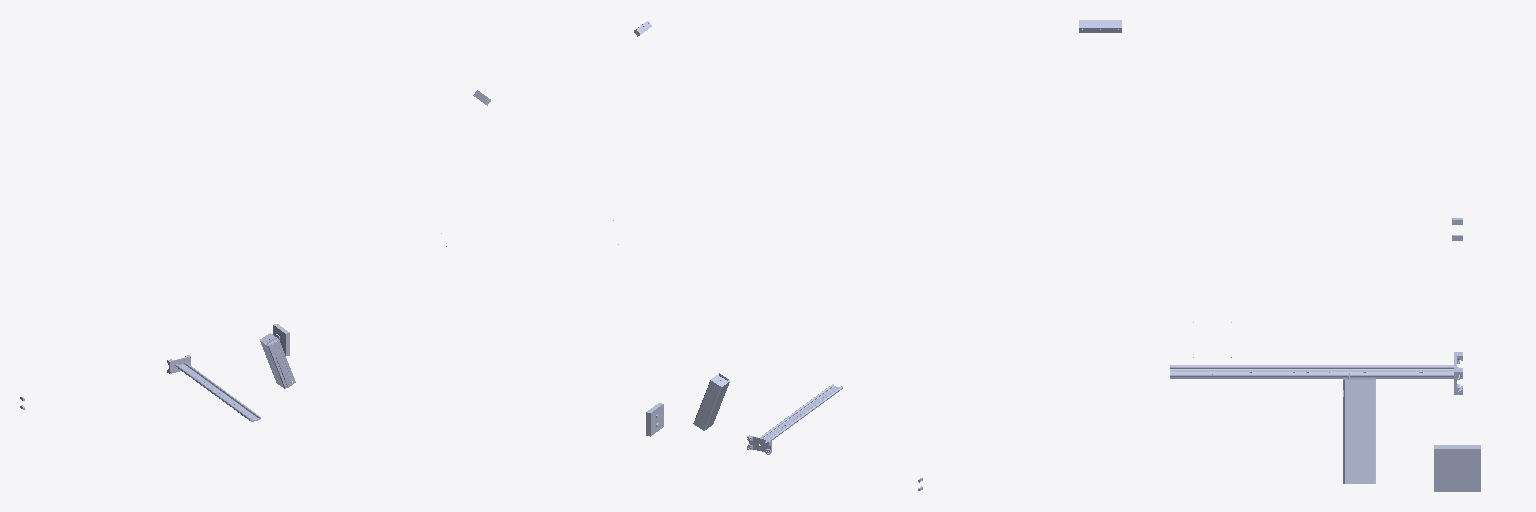
--- Facts derived from the render (not from the file) ---
Views: 3 orthographic renders of the robot side by side, from view 1: azimuth 30°, elevation 25°; view 2: azimuth 150°, elevation 25°; view 3: azimuth 270°, elevation 25°.
Model robo_description with 21 links and 20 joints (2 revolute, 2 prismatic, 16 fixed), rooted at base_link, posed all joints at 0 but 1 set to mid-range because 0 is outside their limits (joint5 = 0.4665).
Visible links, largest first — view 1: link2, link5; view 2: link2, link5; view 3: link2, link5, base_link, camera_link.
Link boxes in pixels (<box>): link2: <box>167,355,260,421</box>; link5: <box>260,333,295,388</box>; link2: <box>747,384,842,454</box>; link5: <box>693,373,729,430</box>; link2: <box>1170,352,1462,394</box>; link5: <box>1343,373,1375,483</box>; base_link: <box>1434,218,1480,491</box>; camera_link: <box>1079,20,1121,32</box>.
Size in the robot's own frame: 1.7 by 0.8487 by 1.36 metres.
Meshes: 6 distinct files referenced, 4 mesh visuals loaded (4 binary STL); not drawn: 2 (reference not matched to a file when rendering).

The robot description file, URDF, robot "robo_description":
<?xml version="1.0" encoding="utf-8"?>
<!-- This URDF was automatically created by SolidWorks to URDF Exporter! Originally created by Stephen Brawner ([email redacted]) 
     Commit Version: 1.6.0-4-g7f85cfe  Build Version: 1.6.7995.38578
     For more information, please see http://wiki.ros.org/sw_urdf_exporter -->
<robot
  name="robo_description">
  <link
    name="base_link">
    <inertial>
      <origin
        xyz="-5.13826234849775E-17 -1.63904738952765E-17 0.339473684210526"
        rpy="0 0 0" />
      <mass
        value="19" />
      <inertia
        ixx="2.34956140350877"
        ixy="1.11311423041845E-17"
        ixz="3.69215798456927E-16"
        iyy="2.34956140350877"
        iyz="-7.44985984223617E-17"
        izz="0.151666666666667" />
    </inertial>
    <visual>
      <origin
        xyz="0 0 0"
        rpy="0 0 0" />
      <geometry>
        <mesh
          filename="package://robo_description/meshes/base_link.STL" />
      </geometry>
      <material
        name="">
        <color
          rgba="0.792156862745098 0.819607843137255 0.933333333333333 1" />
      </material>
    </visual>
    <collision>
      <origin
        xyz="0 0 0"
        rpy="0 0 0" />
      <geometry>
        <mesh
          filename="package://robo_description/meshes/base_link.STL" />
      </geometry>
    </collision>
  </link>
  <link
    name="link2">
    <inertial>
      <origin
        xyz="-0.001261 -0.2858 0.14572"
        rpy="0 0 0" />
      <mass
        value="3.13280329013611" />
      <inertia
        ixx="0.0169430024052603"
        ixy="-0.00280446630124331"
        ixz="0.0223183329111622"
        iyy="0.162057682822749"
        iyz="0.000505061238040558"
        izz="0.161640952999751" />
    </inertial>
    <visual>
      <origin
        xyz="0 0 -1"
        rpy="0 0 0" />
      <geometry>
        <mesh
          filename="package://robo_description/meshes/link2.STL" />
      </geometry>
      <material
        name="">
        <color
          rgba="0.792156862745098 0.819607843137255 0.933333333333333 1" />
      </material>
    </visual>
    <collision>
      <origin
        xyz="0 0 0"
        rpy="0 0 0" />
      <geometry>
        <mesh
          filename="package://robo_description/meshes/link2.STL" />
      </geometry>
    </collision>
  </link>
  <joint
    name="joint2"
    type="prismatic">
    <origin
      xyz="0.0 0 1"
      rpy="0 0 0" />
    <parent
      link="base_link" />
    <child
      link="link2" />
    <axis
      xyz="0 0 1" />
    <limit
      lower="0"
      upper="1"
      effort="0"
      velocity="0" />
  </joint>
  <link
    name="link4">
    <inertial>
      <origin
        xyz="-0.000438554587764983 0.0620490502692163 -0.172885898172371"
        rpy="0 0 0" />
      <mass
        value="0.162146723185788" />
      <inertia
        ixx="0.00336616371871891"
        ixy="1.46811284877534E-06"
        ixz="-3.57096843523024E-06"
        iyy="0.00312866852492012"
        iyz="0.00048231220150353"
        izz="0.000338308018448651" />
    </inertial>
    <visual>
      <origin
        xyz="-0.4665 0 -0.790"
        rpy="0 0 0" />
      <geometry>
        <mesh
          filename="package://robo_description/meshes/link4.STL" />
      </geometry>
      <material
        name="">
        <color
          rgba="0.792156862745098 0.819607843137255 0.933333333333333 1" />
      </material>
    </visual>
    <collision>
      <origin
        xyz="0 0 0"
        rpy="0 0 0" />
      <geometry>
        <mesh
          filename="package://robo_description/meshes/link4.STL" />
      </geometry>
    </collision>
  </link>
  <joint
    name="joint4"
    type="revolute">
    <origin
      xyz="0.46904 0 -0.21"
      rpy="0 0 0" />
    <parent
      link="link2" />
    <child
      link="link4" />
    <axis
      xyz="0 0 1" />
    <limit
      lower="-2.9671"
      upper="2.9671"
      effort="0"
      velocity="0" />
  </joint>
  <link
    name="link3">
    <inertial>
      <origin
        xyz="-0.0832189655707039 -0.0894795892974461 -0.00179630042130147"
        rpy="0 0 0" />
      <mass
        value="1.71811977068641" />
      <inertia
        ixx="0.00948440583507882"
        ixy="-0.00159429497921182"
        ixz="0.00308193362516688"
        iyy="0.035537875179704"
        iyz="0.000648421421055908"
        izz="0.0305779645247813" />
    </inertial>
    <visual>
      <origin
        xyz="-0.468545 -0.078 -0.43528"
        rpy="0 0 0" />
      <geometry>
        <mesh
          filename="package://robo_description/meshes/link3.STL" />
      </geometry>
      <material
        name="">
        <color
          rgba="0.792156862745098 0.819607843137255 0.933333333333333 1" />
      </material>
    </visual>
    <collision>
      <origin
        xyz="0 0 0"
        rpy="0 0 0" />
      <geometry>
        <mesh
          filename="package://robo_description/meshes/link3.STL" />
      </geometry>
    </collision>
  </link>
  <joint
    name="joint3"
    type="revolute">
    <origin
      xyz="0.0 0.077824 -0.35472"
      rpy="0 0 0" />
    <parent
      link="link4" />
    <child
      link="link3" />
    <axis
      xyz="0 1 0" />
    <limit
      lower="-1.5708"
      upper="1.5708"
      effort="0"
      velocity="0" />
  </joint>
  <link
    name="yanthra_link">
    <inertial>
      <origin
        xyz="-0.0832189655707036 -0.0114795892974462 -0.00179630042130124"
        rpy="0 0 0" />
      <mass
        value="1.71811977068641" />
      <inertia
        ixx="0.00948440583507882"
        ixy="-0.00159429497921182"
        ixz="0.0030819336251669"
        iyy="0.035537875179704"
        iyz="0.000648421421055907"
        izz="0.0305779645247813" />
    </inertial>
    <visual>
      <origin
        xyz="0 0 0"
        rpy="0 0 0" />
      <geometry>
        <box size="0.001 0.001 0.001"/>
      </geometry>
      <material
        name="">
        <color
          rgba="0.792156862745098 0.819607843137255 0.933333333333333 1" />
      </material>
    </visual>
    <collision>
      <origin
        xyz="0 0 0"
        rpy="0 0 0" />
      <geometry>
        <box size="0.001 0.001 0.001"/>
      </geometry>
    </collision>
  </link>
  <joint
    name="yanthra_joint"
    type="fixed">
    <origin
      xyz="0 -0.078 0"
      rpy="0 0 0" />
    <parent
      link="link3" />
    <child
      link="yanthra_link" />
    <axis
      xyz="0 0 0" />
  </joint>
  <link
    name="link5_origin">
    <inertial>
      <origin
        xyz="-0.00874999999999998 0.0375 -0.00507843424240889"
        rpy="0 0 0" />
      <mass
        value="0.0438088883035136" />
      <inertia
        ixx="3.24913884800222E-05"
        ixy="1.33063310958086E-21"
        ixz="-8.470329472543E-22"
        iyy="3.99574478810853E-06"
        iyz="-3.38875204913906E-21"
        izz="3.07317223657389E-05" />
    </inertial>
    <visual>
      <origin
        xyz="0 0 0"
        rpy="0 0 0" />
      <geometry>
        <box size="0.001 0.001 0.001"/>
      </geometry>
      <material
        name="">
        <color
          rgba="0.792156862745098 0.819607843137255 0.933333333333333 1" />
      </material>
    </visual>
    <collision>
      <origin
        xyz="0 0 0"
        rpy="0 0 0" />
      <geometry>
        <box size="0.001 0.001 0.001"/>
      </geometry>
    </collision>
  </link>
  <joint
    name="link5_origin_joint"
    type="fixed">
    <origin
      xyz="0 0 0.0"
      rpy="0 0 0" />
    <parent	
      link="yanthra_link" />
    <child
      link="link5_origin" />
    <axis
      xyz="0 0 0" />
  </joint>
  <link
    name="link5">
    <inertial>
      <origin
        xyz="0.108132413871145 2.08242781028485E-06 0.00569147154470495"
        rpy="0 0 0" />
      <mass
        value="0.277404400359573" />
      <inertia
        ixx="0.00021628976171093"
        ixy="1.27900715148446E-06"
        ixz="-0.000135093187106687"
        iyy="0.00359200319167061"
        iyz="-8.36237914028336E-08"
        izz="0.00358633509004247" />
    </inertial>
    <visual>
      <origin
        xyz="-0.715545 0 -0.43528"
        rpy="0 0 0" />
      <geometry>
        <mesh
          filename="package://robo_description/meshes/link5.STL" />
      </geometry>
      <material
        name="">
        <color
          rgba="0.792156862745098 0.819607843137255 0.933333333333333 1" />
      </material>
    </visual>
    <collision>
      <origin
        xyz="0 0 0"
        rpy="0 0 0" />
      <geometry>
        <mesh
          filename="package://robo_description/meshes/link5.STL" />
      </geometry>
    </collision>
  </link>
  <joint
    name="joint5"
    type="prismatic">
    <origin
      xyz="0.0 0 0"
      rpy="0 0 0" />
    <parent
      link="link5_origin" />
    <child
      link="link5" />
    <axis
      xyz="1 0 0" />
    <limit
      lower="0.247"
      upper="0.686"
      effort="0"
      velocity="0" />
  </joint>
  <link
    name="ee_link">
    <inertial>
      <origin
        xyz="-0.00874999999999998 0.0375 -0.00507843424240889"
        rpy="0 0 0" />
      <mass
        value="0.0438088883035136" />
      <inertia
        ixx="3.24913884800222E-05"
        ixy="1.33063310958086E-21"
        ixz="-8.470329472543E-22"
        iyy="3.99574478810853E-06"
        iyz="-3.38875204913906E-21"
        izz="3.07317223657389E-05" />
    </inertial>
    <visual>
      <origin
        xyz="0 0 0"
        rpy="0 0 0" />
      <geometry>
        <box size="0.001 0.001 0.001"/>
      </geometry>
      <material
        name="">
        <color
          rgba="0.792156862745098 0.819607843137255 0.933333333333333 1" />
      </material>
    </visual>
    <collision>
      <origin
        xyz="0 0 0"
        rpy="0 0 0" />
      <geometry>
        <box size="0.001 0.001 0.001"/>
      </geometry>
    </collision>
  </link>
  <joint
    name="ee_joint"
    type="fixed">
    <origin
      xyz="-0.085 0 0"
      rpy="0 0 0" />
    <parent	
      link="link5" />
    <child
      link="ee_link" />
    <axis
      xyz="0 0 0" />
  </joint>
  <link
    name="aruco_marker_link">
    <inertial>
      <origin
        xyz="-0.00874999999999998 0.0375 -0.00507843424240889"
        rpy="0 0 0" />
      <mass
        value="0.0438088883035136" />
      <inertia
        ixx="3.24913884800222E-05"
        ixy="1.33063310958086E-21"
        ixz="-8.470329472543E-22"
        iyy="3.99574478810853E-06"
        iyz="-3.38875204913906E-21"
        izz="3.07317223657389E-05" />
    </inertial>
    <visual>
      <origin
        xyz="0 0 0"
        rpy="0 0 0" />
      <geometry>
        <box size="0.001 0.001 0.001"/>
      </geometry>
      <material
        name="">
        <color
          rgba="0.792156862745098 0.819607843137255 0.933333333333333 1" />
      </material>
    </visual>
    <collision>
      <origin
        xyz="0 0 0"
        rpy="0 0 0" />
      <geometry>
        <box size="0.001 0.001 0.001"/>
      </geometry>
    </collision>
  </link>
  <joint
    name="aruco_joint"
    type="fixed">
    <origin
      xyz="0.0 0 0.08"
      rpy="0 0 0" />
    <parent	
      link="ee_link" />
    <child
      link="aruco_marker_link" />
    <axis
      xyz="0 0 0" />
  </joint>
  <link
    name="aruco_link_1">
    <inertial>
      <origin
        xyz="-0.00874999999999998 0.0375 -0.00507843424240889"
        rpy="0 0 0" />
      <mass
        value="0.0438088883035136" />
      <inertia
        ixx="3.24913884800222E-05"
        ixy="1.33063310958086E-21"
        ixz="-8.470329472543E-22"
        iyy="3.99574478810853E-06"
        iyz="-3.38875204913906E-21"
        izz="3.07317223657389E-05" />
    </inertial>
    <visual>
      <origin
        xyz="0 0 0"
        rpy="0 0 0" />
      <geometry>
        <box size="0.001 0.001 0.001"/>
      </geometry>
      <material
        name="">
        <color
          rgba="0.792156862745098 0.819607843137255 0.933333333333333 1" />
      </material>
    </visual>
    <collision>
      <origin
        xyz="0 0 0"
        rpy="0 0 0" />
      <geometry>
        <box size="0.001 0.001 0.001"/>
      </geometry>
    </collision>
  </link>
  <joint
    name="aruco_joint_1"
    type="fixed">
    <origin
      xyz="0.0 0.04 0.04"
      rpy="0 0 0" />
    <parent	
      link="aruco_marker_link" />
    <child
      link="aruco_link_1" />
    <axis
      xyz="0 0 0" />
  </joint>
  <link
    name="aruco_link_2">
    <inertial>
      <origin
        xyz="-0.00874999999999998 0.0375 -0.00507843424240889"
        rpy="0 0 0" />
      <mass
        value="0.0438088883035136" />
      <inertia
        ixx="3.24913884800222E-05"
        ixy="1.33063310958086E-21"
        ixz="-8.470329472543E-22"
        iyy="3.99574478810853E-06"
        iyz="-3.38875204913906E-21"
        izz="3.07317223657389E-05" />
    </inertial>
    <visual>
      <origin
        xyz="0 0 0"
        rpy="0 0 0" />
      <geometry>
        <box size="0.001 0.001 0.001"/>
      </geometry>
      <material
        name="">
        <color
          rgba="0.792156862745098 0.819607843137255 0.933333333333333 1" />
      </material>
    </visual>
    <collision>
      <origin
        xyz="0 0 0"
        rpy="0 0 0" />
      <geometry>
        <box size="0.001 0.001 0.001"/>
      </geometry>
    </collision>
  </link>
  <joint
    name="aruco_joint_2"
    type="fixed">
    <origin
      xyz="0.0 -0.04 0.04"
      rpy="0 0 0" />
    <parent	
      link="aruco_marker_link" />
    <child
      link="aruco_link_2" />
    <axis
      xyz="0 0 0" />
  </joint>
  <link
    name="aruco_link_3">
    <inertial>
      <origin
        xyz="-0.00874999999999998 0.0375 -0.00507843424240889"
        rpy="0 0 0" />
      <mass
        value="0.0438088883035136" />
      <inertia
        ixx="3.24913884800222E-05"
        ixy="1.33063310958086E-21"
        ixz="-8.470329472543E-22"
        iyy="3.99574478810853E-06"
        iyz="-3.38875204913906E-21"
        izz="3.07317223657389E-05" />
    </inertial>
    <visual>
      <origin
        xyz="0 0 0"
        rpy="0 0 0" />
      <geometry>
        <box size="0.001 0.001 0.001"/>
      </geometry>
      <material
        name="">
        <color
          rgba="0.792156862745098 0.819607843137255 0.933333333333333 1" />
      </material>
    </visual>
    <collision>
      <origin
        xyz="0 0 0"
        rpy="0 0 0" />
      <geometry>
        <box size="0.001 0.001 0.001"/>
      </geometry>
    </collision>
  </link>
  <joint
    name="aruco_joint_3"
    type="fixed">
    <origin
      xyz="0.0 0.04 -0.04"
      rpy="0 0 0" />
    <parent	
      link="aruco_marker_link" />
    <child
      link="aruco_link_3" />
    <axis
      xyz="0 0 0" />
  </joint>
  <link
    name="aruco_link_4">
    <inertial>
      <origin
        xyz="-0.00874999999999998 0.0375 -0.00507843424240889"
        rpy="0 0 0" />
      <mass
        value="0.0438088883035136" />
      <inertia
        ixx="3.24913884800222E-05"
        ixy="1.33063310958086E-21"
        ixz="-8.470329472543E-22"
        iyy="3.99574478810853E-06"
        iyz="-3.38875204913906E-21"
        izz="3.07317223657389E-05" />
    </inertial>
    <visual>
      <origin
        xyz="0 0 0"
        rpy="0 0 0" />
      <geometry>
        <box size="0.001 0.001 0.001"/>
      </geometry>
      <material
        name="">
        <color
          rgba="0.792156862745098 0.819607843137255 0.933333333333333 1" />
      </material>
    </visual>
    <collision>
      <origin
        xyz="0 0 0"
        rpy="0 0 0" />
      <geometry>
        <box size="0.001 0.001 0.001"/>
      </geometry>
    </collision>
  </link>
  <joint
    name="aruco_joint_4"
    type="fixed">
    <origin
      xyz="0.0 -0.04 -0.04"
      rpy="0 0 0" />
    <parent	
      link="aruco_marker_link" />
    <child
      link="aruco_link_4" />
    <axis
      xyz="0 0 0" />
  </joint>
  <link
    name="link7">
    <inertial>
      <origin
        xyz="-0.00129487747822488 -0.0114795892973884 0.11996423535158"
        rpy="0 0 0" />
      <mass
        value="1.71811977068641" />
      <inertia
        ixx="0.0113386071435481"
        ixy="-0.00171490439294498"
        ixz="-0.00672100859249017"
        iyy="0.0355378751797041"
        iyz="-0.0001460470577602"
        izz="0.0287237632163119" />
    </inertial>
    <visual>
      <origin
        xyz="0 0 0"
        rpy="0 0 0" />
      <geometry>
        <box size="0.001 0.001 0.001"/>
      </geometry>
      <material
        name="">
        <color
          rgba="0.792156862745098 0.819607843137255 0.933333333333333 1" />
      </material>
    </visual>
    <collision>
      <origin
        xyz="0 0 0"
        rpy="0 0 0" />
      <geometry>
        <box size="0.001 0.001 0.001"/>
      </geometry>
    </collision>
  </link>
  <joint
    name="joint7"
    type="fixed">
    <origin
      xyz="0.12504 0 -0.03623"
      rpy="0 1.0472 0" />
    <parent
      link="link4" />
    <child
      link="link7" />
    <axis
      xyz="0 0 0" />
  </joint>
  <link
    name="camera_mount_link">
    <inertial>
      <origin
        xyz="-0.00129487747822488 -0.0114795892973883 0.11996423535158"
        rpy="0 0 0" />
      <mass
        value="1.71811977068641" />
      <inertia
        ixx="0.0113386071435481"
        ixy="-0.00171490439294498"
        ixz="-0.00672100859249018"
        iyy="0.0355378751797041"
        iyz="-0.000146047057760202"
        izz="0.0287237632163119" />
    </inertial>
    <visual>
      <origin
        xyz="0 0 0"
        rpy="0 0 0" />
      <geometry>
        <box size="0.001 0.001 0.001"/>
      </geometry>
      <material
        name="">
        <color
          rgba="0.792156862745098 0.819607843137255 0.933333333333333 1" />
      </material>
    </visual>
    <collision>
      <origin
        xyz="0 0 0"
        rpy="0 0 0" />
      <geometry>
        <box size="0.001 0.001 0.001"/>
      </geometry>
    </collision>
  </link>
     <!--Realsense Camera depth is 20 mm from back to glass, But the depth start point(GROUND ZERO REFERENCE i.e depth is Zero) is 1.1 mm behind glass-->
     <!--Camera thickness-Zero Ref +Plate thick=20-1.1+2 = 20.09 mm -->
     <!-- xyz="0.0209 -0.0375 0"-->
  <joint
    name="camera_mount_joint"
    type="fixed">
    <origin
      xyz="0.02090 -0.0375 0"
      rpy="-1.5708 0 -1.5708" />
    <parent
      link="link7" />
    <child
      link="camera_mount_link" />
    <axis
      xyz="0 0 0" />
  </joint>
  <link
    name="virtual_cam_link">
    <inertial>
      <origin
        xyz="-0.00874999999999998 0.0375 -0.00507843424240889"
        rpy="0 0 0" />
      <mass
        value="0.0438088883035136" />
      <inertia
        ixx="3.24913884800222E-05"
        ixy="1.33063310958086E-21"
        ixz="-8.470329472543E-22"
        iyy="3.99574478810853E-06"
        iyz="-3.38875204913906E-21"
        izz="3.07317223657389E-05" />
    </inertial>
    <visual>
      <origin
        xyz="0 0 0"
        rpy="0 0 0" />
      <geometry>
        <box size="0.001 0.001 0.001"/>
      </geometry>
      <material
        name="">
        <color
          rgba="0.792156862745098 0.819607843137255 0.933333333333333 1" />
      </material>
    </visual>
    <collision>
      <origin
        xyz="0 0 0"
        rpy="0 0 0" />
      <geometry>
        <box size="0.001 0.001 0.001"/>
      </geometry>
    </collision>
  </link>
  <joint
    name="virtual_cam_link_joint"
    type="fixed">
    <origin
      xyz="0 0 0"
      rpy="0 0 0" />
    <parent	
      link="camera_mount_link" />
    <child
      link="virtual_cam_link" />
    <axis
      xyz="0 0 0" />
  </joint>

  <link
    name="camera_link">
    <inertial>
      <origin
        xyz="-0.00874999999999998 0.0375 -0.00507843424240889"
        rpy="0 0 0" />
      <mass
        value="0.0438088883035136" />
      <inertia
        ixx="3.24913884800222E-05"
        ixy="1.33063310958086E-21"
        ixz="-8.470329472543E-22"
        iyy="3.99574478810853E-06"
        iyz="-3.38875204913906E-21"
        izz="3.07317223657389E-05" />
    </inertial>
    <visual>
      <origin
        xyz="-0.03768 -0.425 -0.175"
        rpy="0 -2.04 -1.5708" />
      <geometry>
        <mesh
          filename="package://robo_description/meshes/camera_link.STL" />
      </geometry>
      <material
        name="">
        <color
          rgba="0.792156862745098 0.819607843137255 0.933333333333333 1" />
      </material>
    </visual>
    <collision>
      <origin
        xyz="0 0 0"
        rpy="0 0 0" />
      <geometry>
        <mesh
          filename="package://robo_description/meshes/camera_link.STL" />
      </geometry>
    </collision>
  </link>
  <joint
    name="camera_link_joint"
    type="fixed">
    <origin
      xyz="0.0 0 0"
      rpy="0 0 0" />
    <parent
      link="virtual_cam_link" />
    <child
      link="camera_link" />
    <axis
      xyz="0 0 0" />
  </joint>

  <link name="camera_depth_frame">

    <visual>

    <origin xyz="0 0 0" rpy="0 0 0" />

      <geometry>

        <box size="0.001 0.001 0.001"/>

      </geometry>

    </visual>

  </link>

  <joint name="camera_depth_frame_joint" type="fixed">

    <origin rpy="0 0 0" xyz="0 0 0"/>

    <parent link="camera_link"/>

    <child link="camera_depth_frame"/>

  </joint>

  <link name="camera_depth_optical_frame">

    <visual>

    <origin xyz="0 0 0" rpy="0 0 0" />

      <geometry>

        <box size="0.001 0.001 0.001"/>

      </geometry>

    </visual>

  </link>

  <joint name="camera_depth_optical_frame_joint" type="fixed">

   <origin rpy="0 0 0" xyz="0 0 0"/>

   <parent link="camera_depth_frame"/>

   <child link="camera_depth_optical_frame"/>

  </joint>

  <link name="camera_color_frame">

    <visual>

    <origin xyz="0 0 0" rpy="0 0 0" />

      <geometry>

        <box size="0.001 0.001 0.001"/>

      </geometry>

    </visual>

  </link>

  <joint name="camera_color_frame_joint" type="fixed">

    <origin rpy="0 0 0" xyz="0 0 0"/>

    <parent link="camera_link"/>

    <child link="camera_color_frame"/>

  </joint>

  <link name="camera_color_optical_frame">

    <visual>

    <origin xyz="0 0 0" rpy="0 0 0" />

      <geometry>

        <box size="0.001 0.001 0.001"/>

      </geometry>

    </visual>

  </link>

  <joint name="camera_color_optical_frame_joint" type="fixed">

   <origin rpy="0 0 0" xyz="0 0 0"/>

   <parent link="camera_color_frame"/>

   <child link="camera_color_optical_frame"/>

  </joint>
  <gazebo reference="stand">

    <material>Gazebo/Grey</material>

  </gazebo>

  <gazebo reference="link3">

    <material>Gazebo/Green</material>

  </gazebo>

  <gazebo reference="link4">

    <material>Gazebo/Red</material>

  </gazebo>

  <gazebo reference="link5">

    <material>Gazebo/Green</material>

  </gazebo>

  <gazebo reference="link9">

    <material>Gazebo/Red</material>

  </gazebo>

  <gazebo reference="link6">

    <material>Gazebo/White</material>

  </gazebo>

  <transmission name="tran1">

    <type>transmission_interface/SimpleTransmission</type>

    <joint name="joint3">

      <hardwareInterface>hardware_interface/PositionJointInterface</hardwareInterface>

    </joint>

    <actuator name="motor1">

      <hardwareInterface>hardware_interface/PositionJointInterface</hardwareInterface>

      <mechanicalReduction>1</mechanicalReduction>

    </actuator>

  </transmission>

  <transmission name="tran1">

    <type>transmission_interface/SimpleTransmission</type>

    <joint name="joint4">

      <hardwareInterface>hardware_interface/PositionJointInterface</hardwareInterface>

    </joint>

    <actuator name="motor1">

      <hardwareInterface>hardware_interface/PositionJointInterface</hardwareInterface>

      <mechanicalReduction>1</mechanicalReduction>

    </actuator>

  </transmission>

  <transmission name="tran1">

    <type>transmission_interface/SimpleTransmission</type>

    <joint name="joint5">

      <hardwareInterface>hardware_interface/PositionJointInterface</hardwareInterface>

    </joint>

    <actuator name="motor1">

      <hardwareInterface>hardware_interface/PositionJointInterface</hardwareInterface>

      <mechanicalReduction>1</mechanicalReduction>

    </actuator>

  </transmission>

  <gazebo>

    <plugin filename="libgazebo_ros_control.so" name="gazebo_ros_control">

      <robotNameSpace>/arm_controller</robotNameSpace>

    </plugin>

  </gazebo>

</robot>
